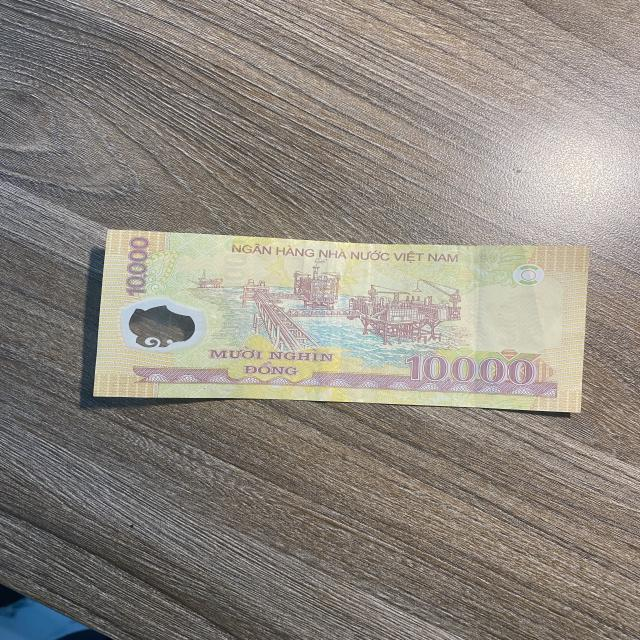10 000 VND: (86, 225, 596, 418)
